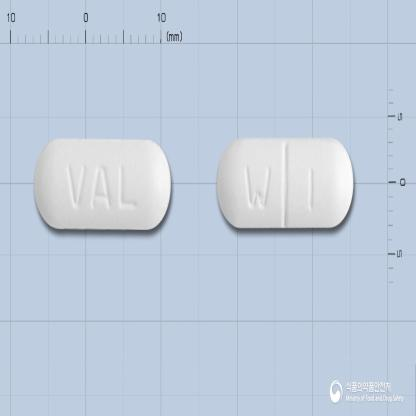pill: (32, 136, 172, 230), (216, 137, 354, 229)
